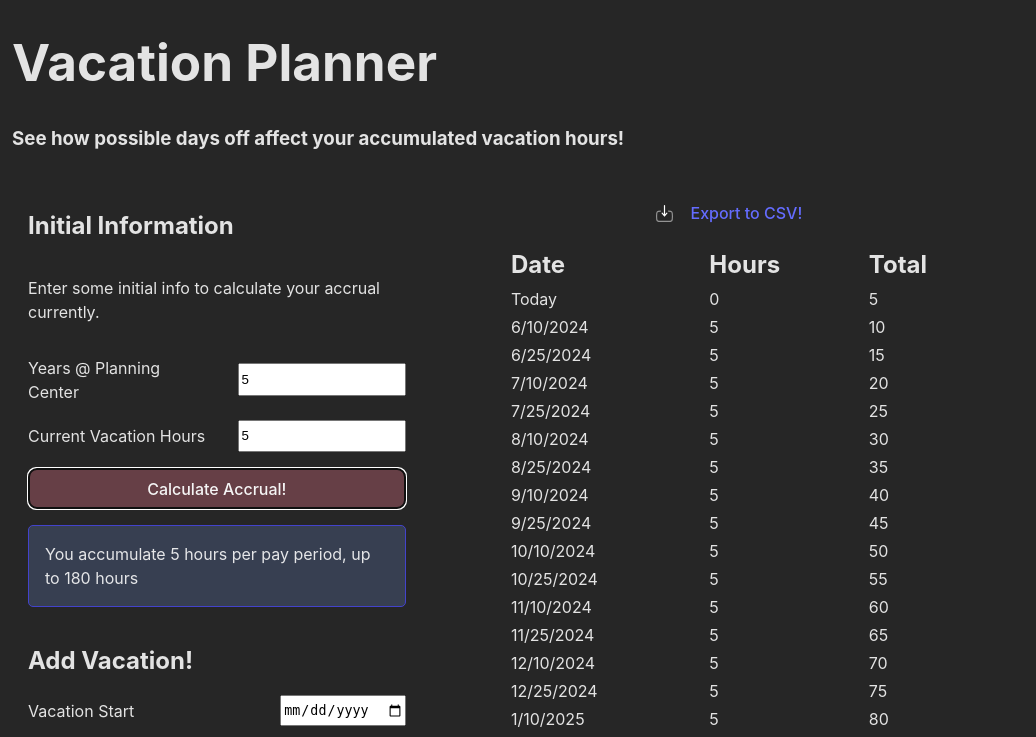
Test: renders correct accumulation and max numbers › respects the max
Step 1. Replace the text in the number field next to "Current Vacation Hours" with "170" → (322, 436), box [238, 420, 406, 452]
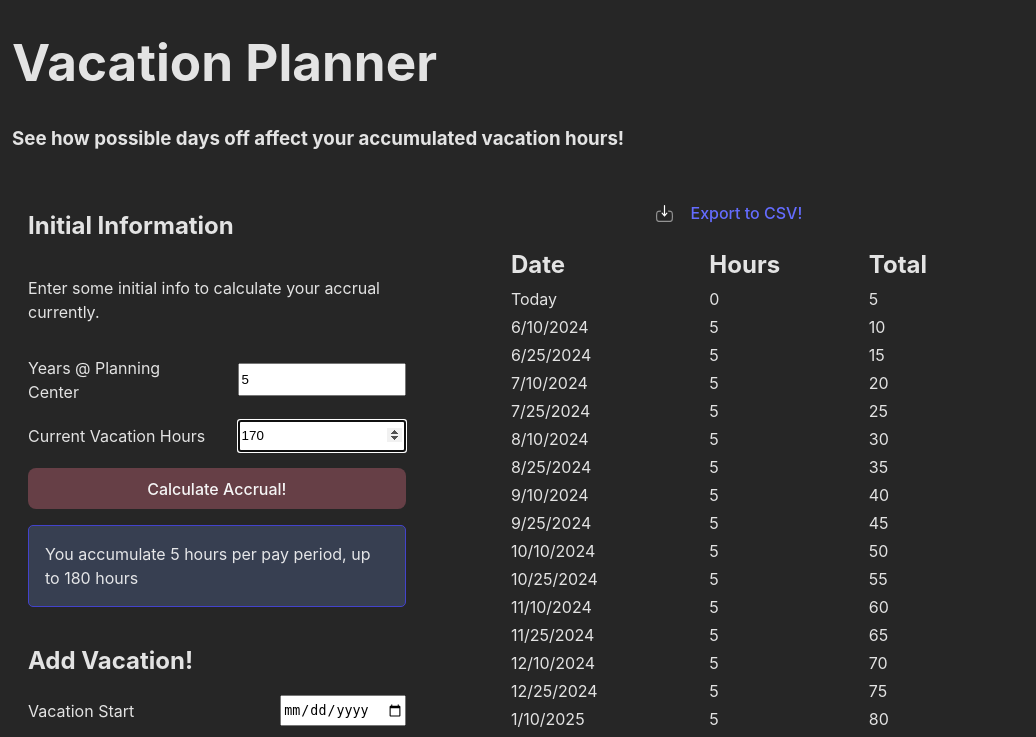
Step 2. Click the button "Calculate Accrual!" → (217, 489), box [28, 468, 406, 510]
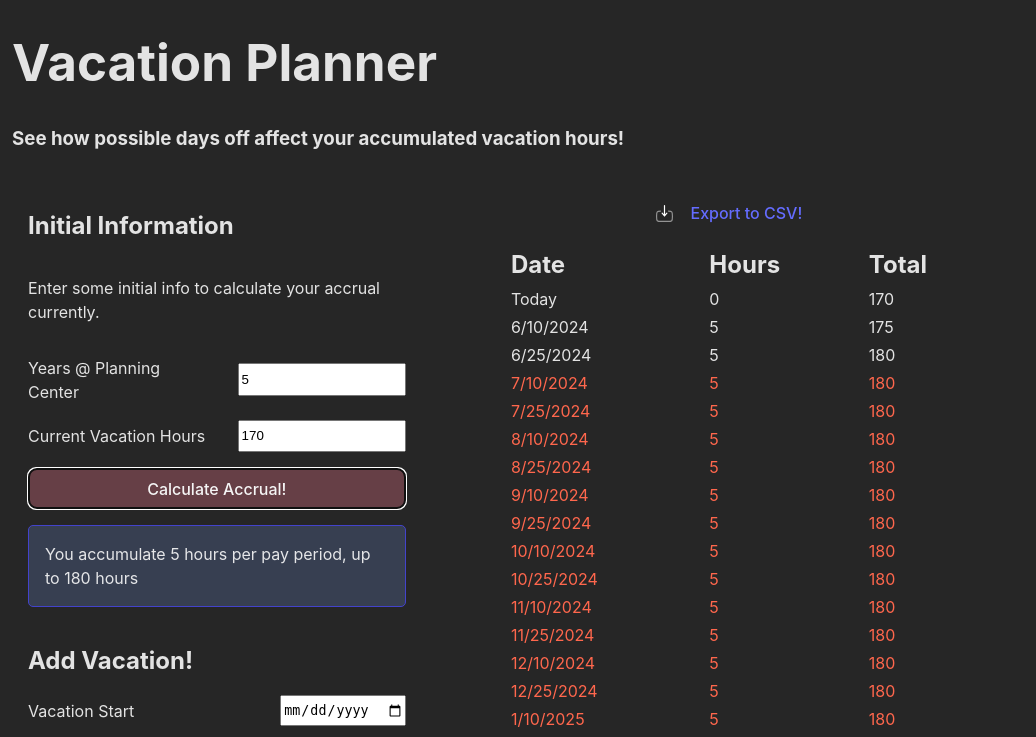
Expected: the text "170" is shown, [869, 289, 894, 309]
Expected: the text "175" is shown, [869, 317, 894, 337]
